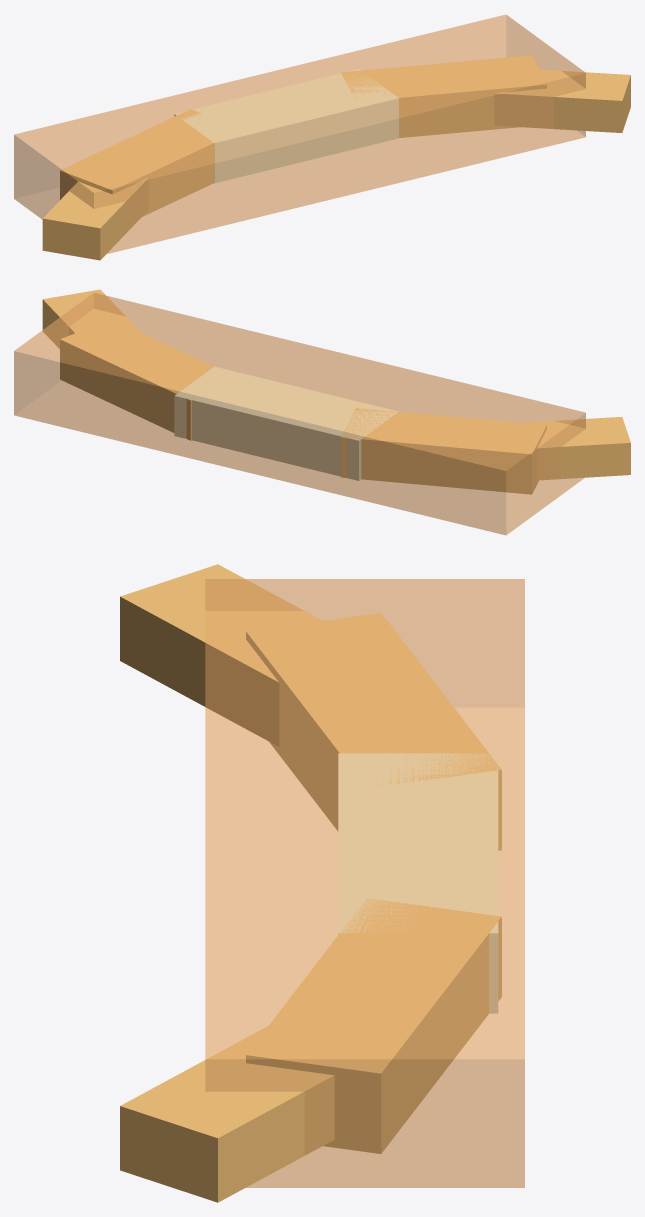
File: FireSlash.fbx
3 views of the same model, one above another, from view 1: azimuth 30°, elevation 25°; view 2: azimuth 150°, elevation 25°; view 3: azimuth 270°, elevation 25° (orthographic). The views are drawn at different scales.
Parts seen in each view (by area): view 1: Slash_Glow, Slash_Core, Slash_Mid, Slash_Mid.001, Slash_Tip, Slash_Tip.001; view 2: Slash_Glow, Slash_Core, Slash_Mid.001, Slash_Mid, Slash_Tip.001, Slash_Tip; view 3: Slash_Glow, Slash_Mid, Slash_Mid.001, Slash_Core, Slash_Tip, Slash_Tip.001.
Part boxes in pixels (x1,y1,x2,y2): Slash_Glow: [14, 14, 585, 253]; Slash_Core: [174, 69, 398, 183]; Slash_Mid: [341, 55, 546, 137]; Slash_Mid.001: [60, 109, 213, 216]; Slash_Tip: [494, 69, 630, 132]; Slash_Tip.001: [42, 178, 148, 260]; Slash_Glow: [14, 292, 585, 535]; Slash_Core: [174, 366, 398, 480]; Slash_Mid.001: [341, 408, 546, 494]; Slash_Mid: [60, 319, 213, 440]; Slash_Tip.001: [522, 417, 630, 480]; Slash_Tip: [42, 289, 141, 348]; Slash_Glow: [205, 579, 524, 1187]; Slash_Mid: [246, 898, 501, 1153]; Slash_Mid.001: [246, 613, 501, 850]; Slash_Core: [338, 753, 498, 1013]; Slash_Tip: [120, 1026, 334, 1202]; Slash_Tip.001: [120, 564, 321, 746].
Bounding box in the file's own units: 214 × 22.4 × 63.84.
